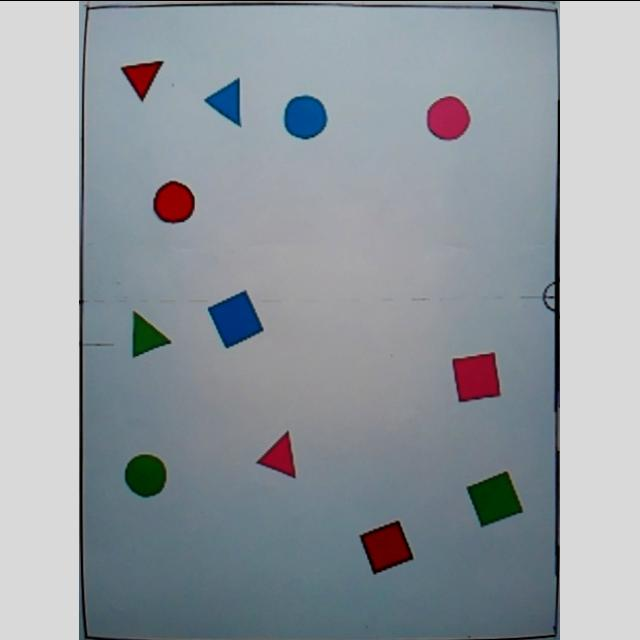blueCircle: (284, 93, 332, 143)
blueSquare: (207, 290, 267, 348)
blueTriangle: (205, 77, 245, 127)
greenCircle: (124, 452, 172, 498)
greenSquare: (466, 468, 526, 528)
greenTriangle: (124, 309, 174, 357)
pinkCircle: (428, 94, 472, 140)
pinkSquare: (452, 352, 508, 402)
pinkTriangle: (254, 429, 300, 479)
redCircle: (154, 179, 198, 227)
redSquare: (358, 518, 414, 576)
redTriangle: (120, 54, 168, 102)
